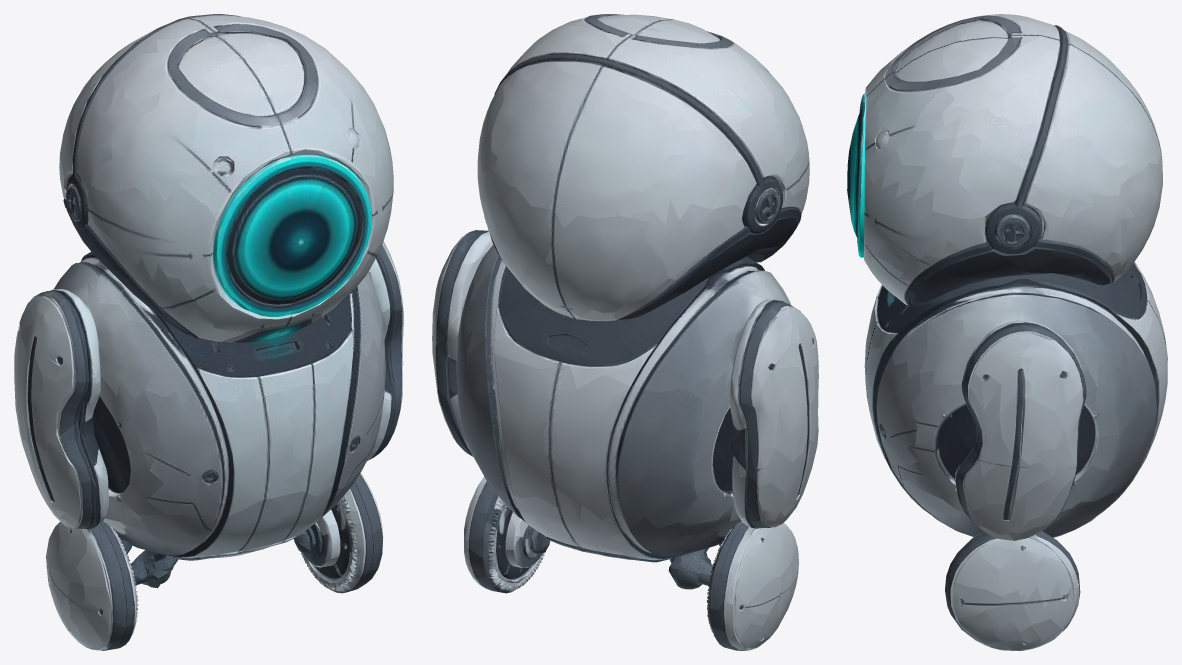
The model's file is g1_firefly.glb.
3 renders of one model, left to right at view 1: azimuth 30°, elevation 25°; view 2: azimuth 150°, elevation 25°; view 3: azimuth 270°, elevation 25°, orthographic. The views are drawn at different scales.
Bounding box in the file's own units: 1.24 × 1.9 × 0.991.
1 material, 1 textured.
